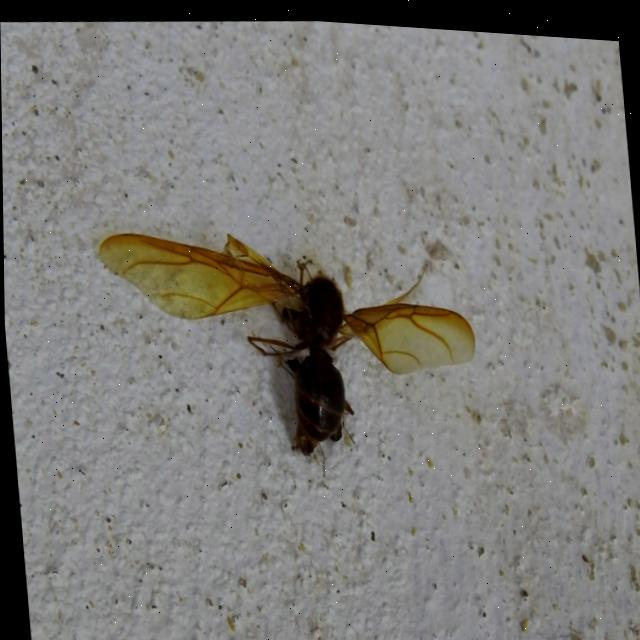Dead-Male-Alate: (97, 205, 485, 496)
